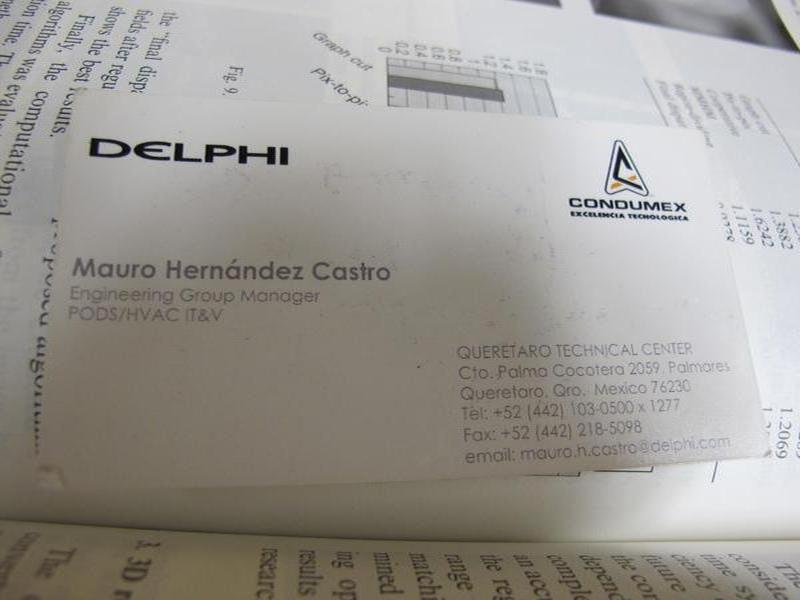card: (52, 83, 775, 491)
